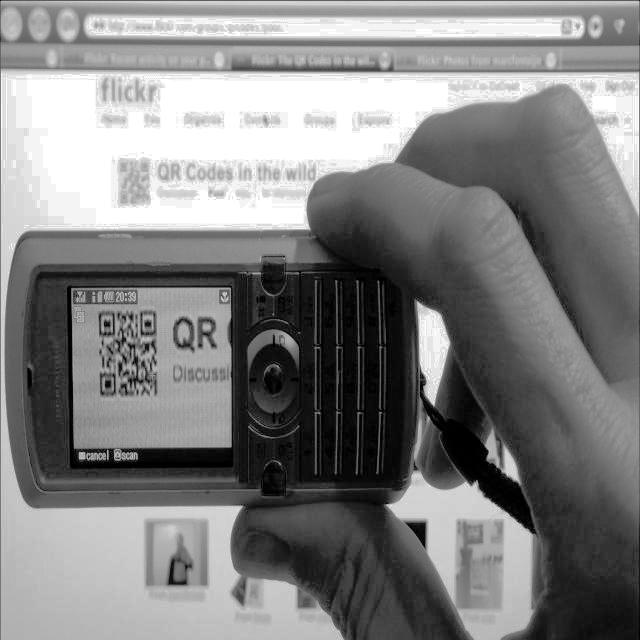qr_code: (99, 311, 158, 396), (120, 160, 150, 203)
